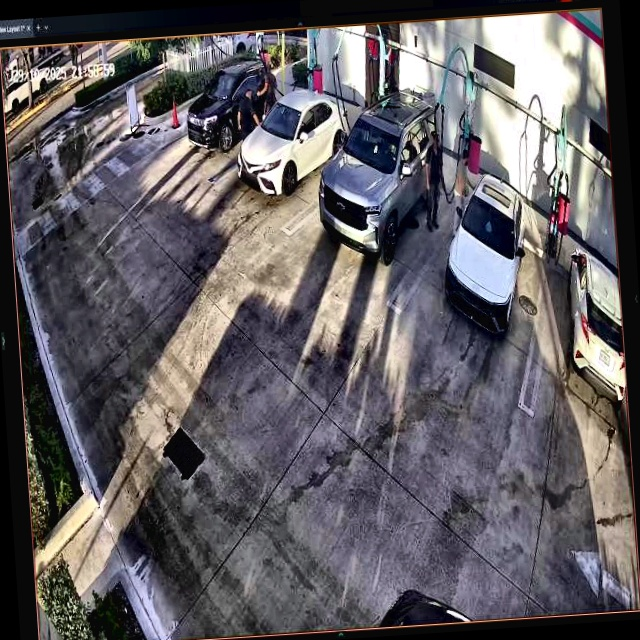Car: (314, 91, 440, 265), (439, 175, 532, 338), (236, 87, 353, 196), (184, 59, 271, 152)
